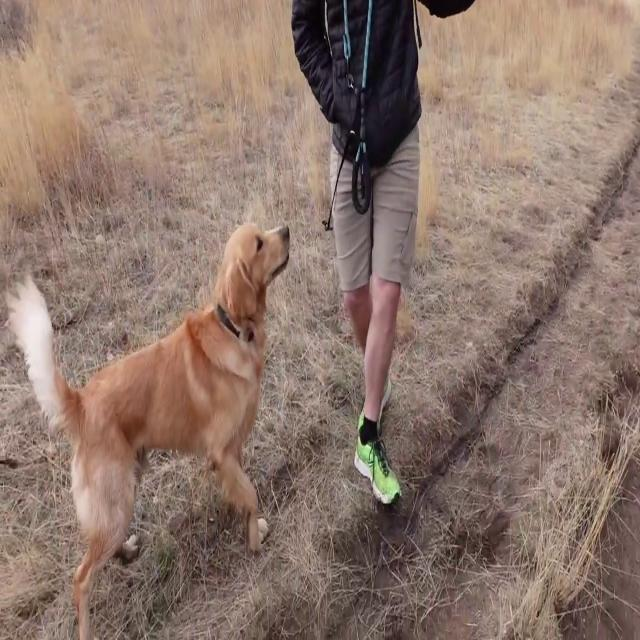Unleashed_Dog: (5, 220, 372, 640)
